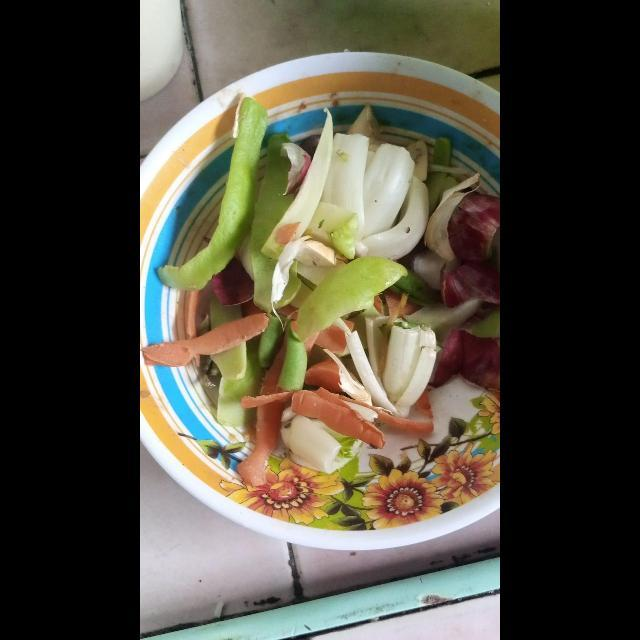biowaste: (162, 98, 269, 293), (250, 139, 312, 315), (291, 256, 408, 349), (427, 189, 500, 334), (339, 315, 441, 416), (264, 116, 334, 263), (250, 390, 385, 450), (362, 146, 431, 263), (144, 313, 268, 369), (235, 394, 291, 493), (214, 336, 267, 432), (363, 144, 415, 239), (429, 328, 500, 396), (329, 135, 370, 239), (280, 413, 341, 476)
